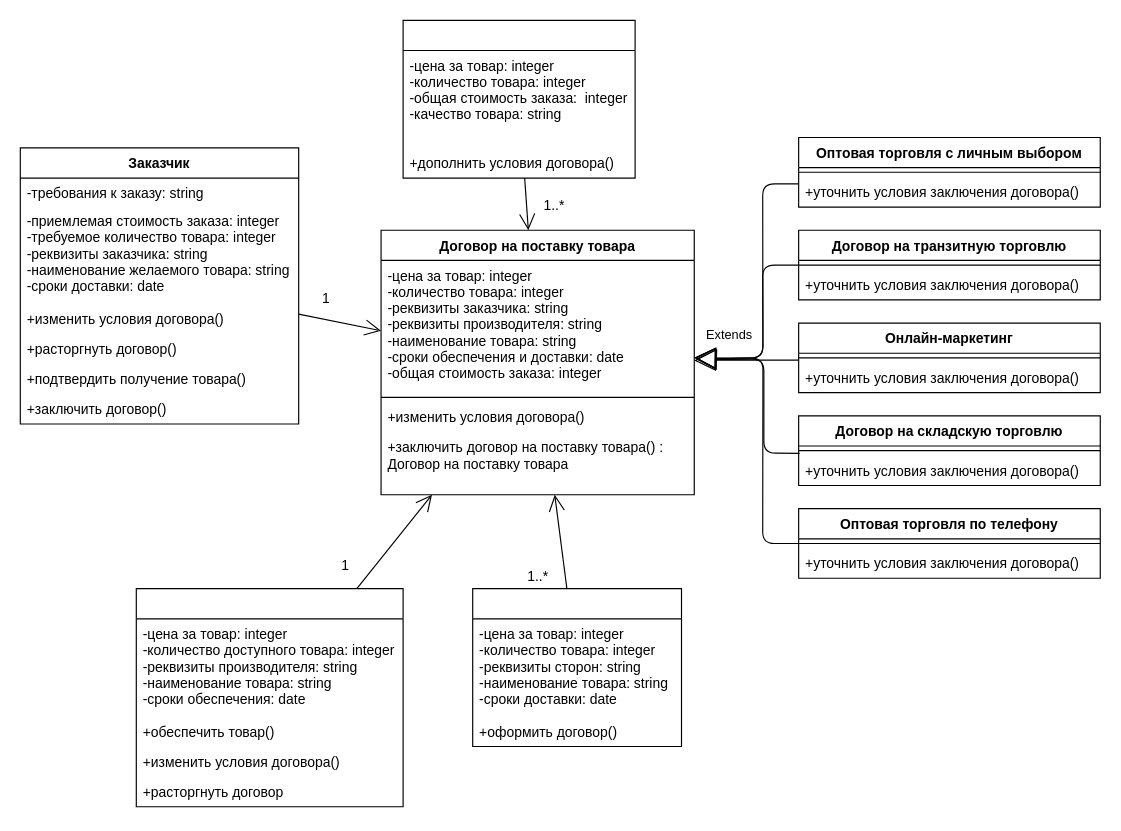
Image size: 1121x831. Some labels were removed from this diagram. The shapes that lost their labels are listed below. From the top down, each one's box as (x1, y1, x2, y2) in pixels, then its label:
(402, 19, 635, 178): Партия
(472, 588, 682, 746): Администратор
(135, 588, 403, 807): Производитель
